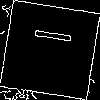I: (24, 24, 72, 46)
